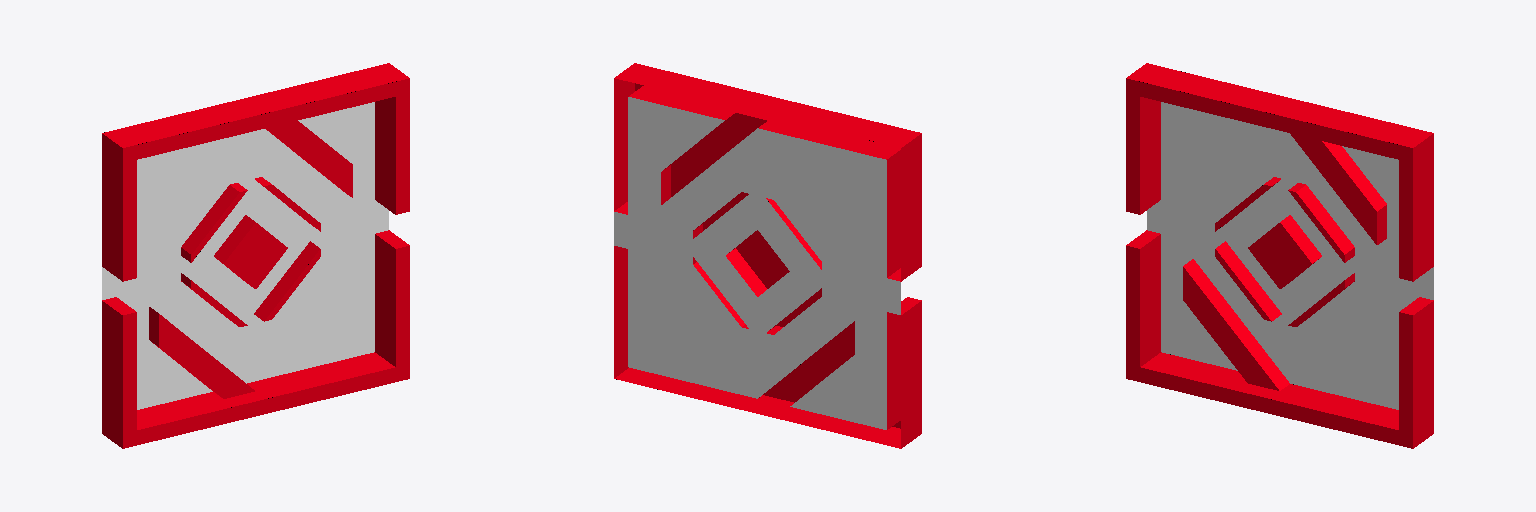
3 renders of one model, left to right at view 1: azimuth 30°, elevation 25°; view 2: azimuth 150°, elevation 25°; view 3: azimuth 330°, elevation 25°, orthographic.
Visible parts, largest first — view 1: Plane; view 2: Plane; view 3: Plane.
Part boxes in pixels (left/top/right/bottom): Plane: left=102, top=63, right=409, bottom=448; Plane: left=614, top=63, right=921, bottom=448; Plane: left=1126, top=63, right=1433, bottom=448.
Bounding box in the file's own units: 16 × 16 × 2.
Materials: 1 (1 with a texture image).